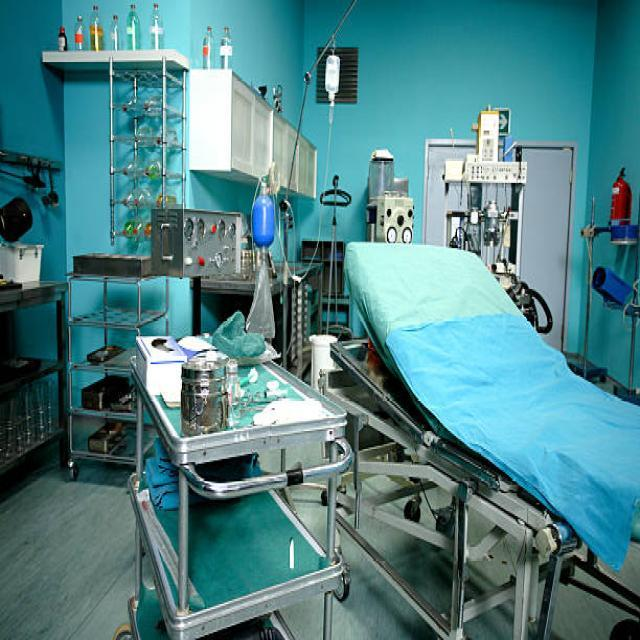bed: (318, 226, 640, 638)
tools_table: (115, 309, 358, 640), (67, 243, 176, 518)
